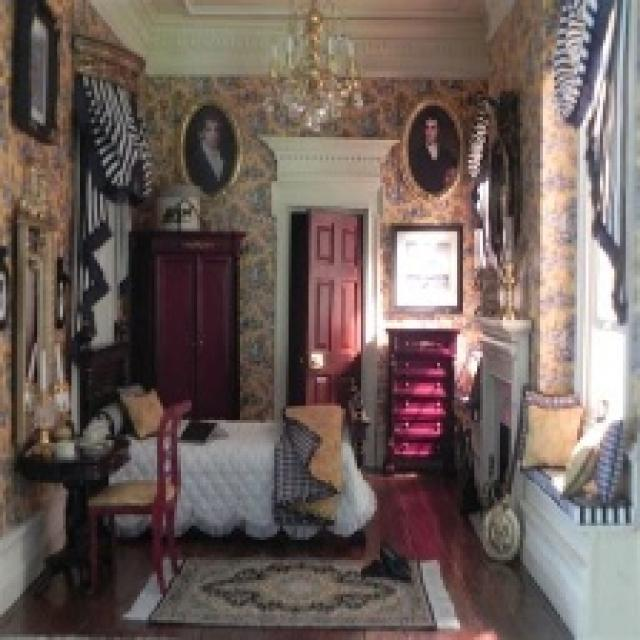Bed: (69, 340, 374, 543)
